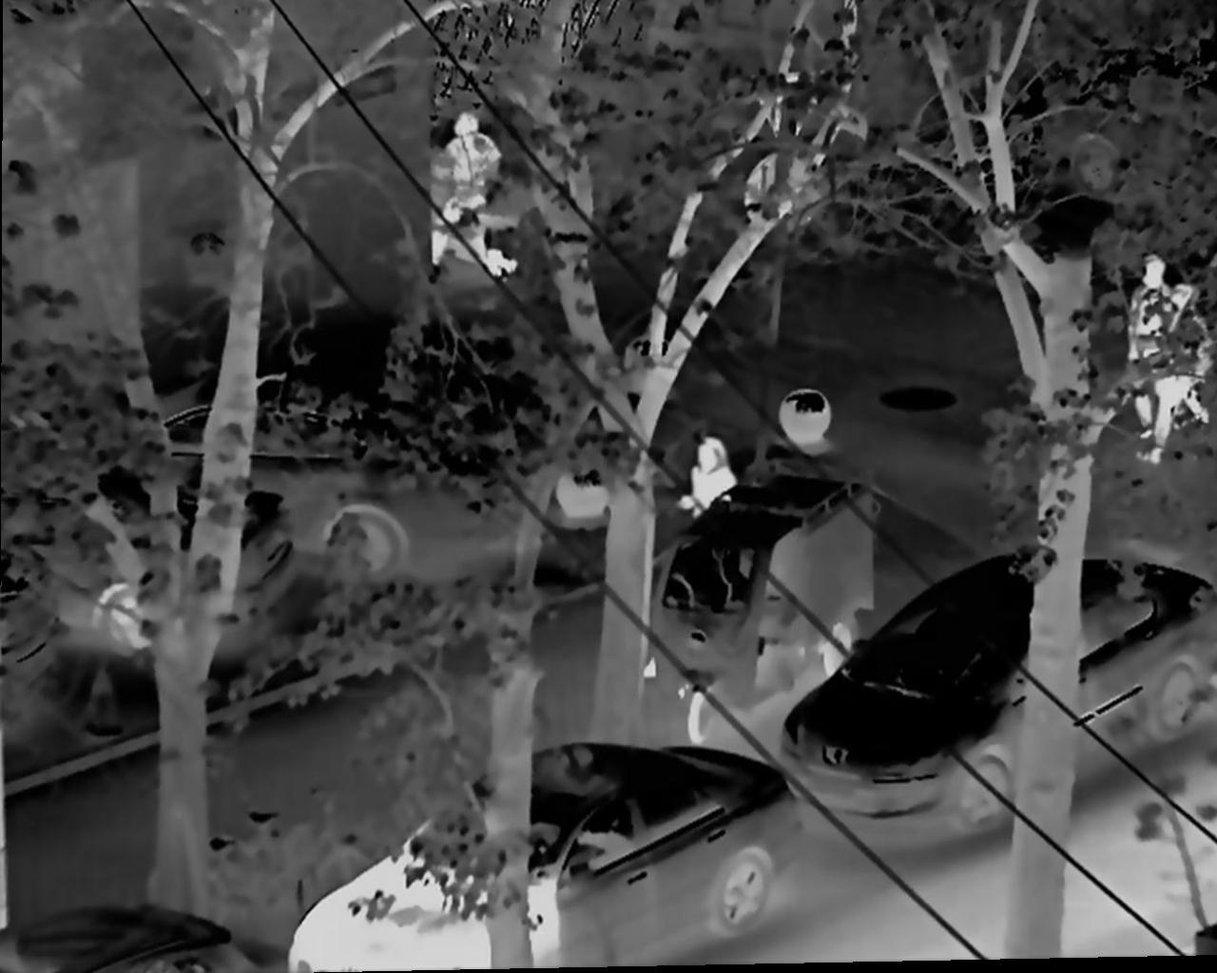person: (432, 109, 519, 276), (1155, 275, 1210, 484), (1123, 254, 1177, 461), (669, 427, 740, 536)
